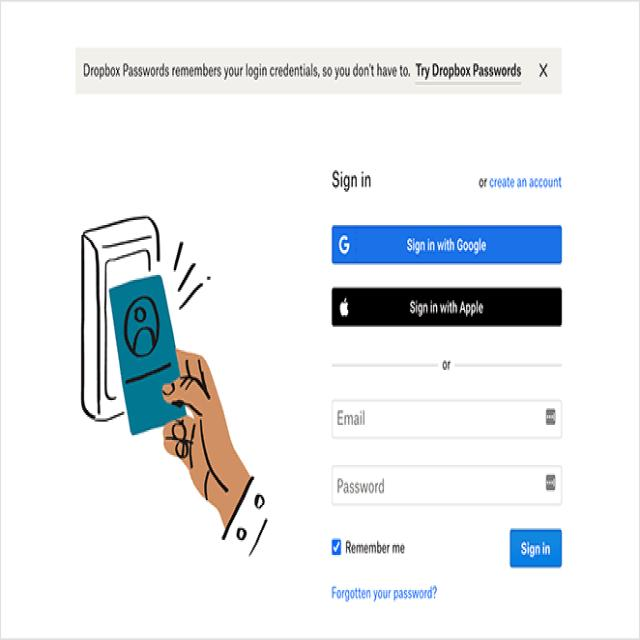Button: (328, 281, 566, 338), (328, 217, 568, 271), (507, 522, 568, 582)
Check-box: (329, 535, 411, 563)
Image: (62, 179, 290, 586)
Input-field: (328, 387, 569, 456), (329, 458, 573, 511)
Text: (330, 580, 436, 611), (474, 174, 562, 195), (328, 163, 371, 194)
